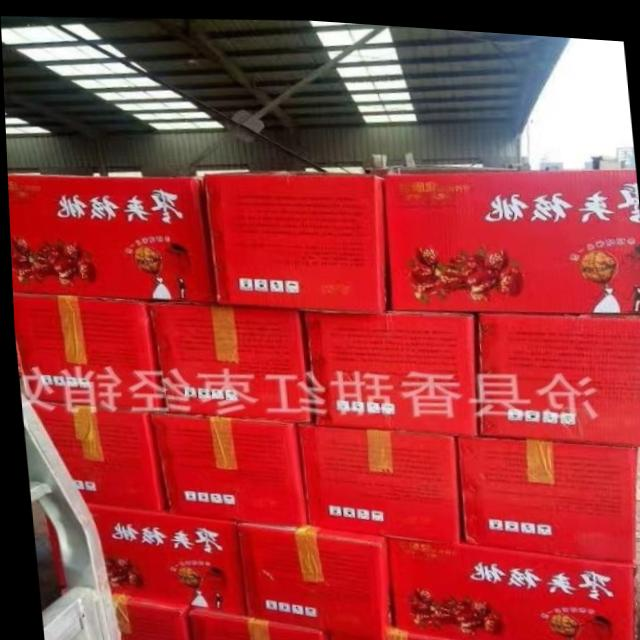box: (382, 160, 640, 306), (378, 528, 634, 640), (6, 173, 211, 302), (203, 169, 388, 310), (452, 430, 636, 554), (299, 303, 475, 431), (473, 306, 640, 438), (144, 299, 310, 420), (294, 419, 460, 536), (228, 519, 387, 636), (146, 409, 305, 525), (81, 502, 239, 613), (10, 293, 159, 409), (24, 400, 162, 510), (184, 605, 321, 640), (106, 595, 188, 640), (319, 623, 466, 640)
